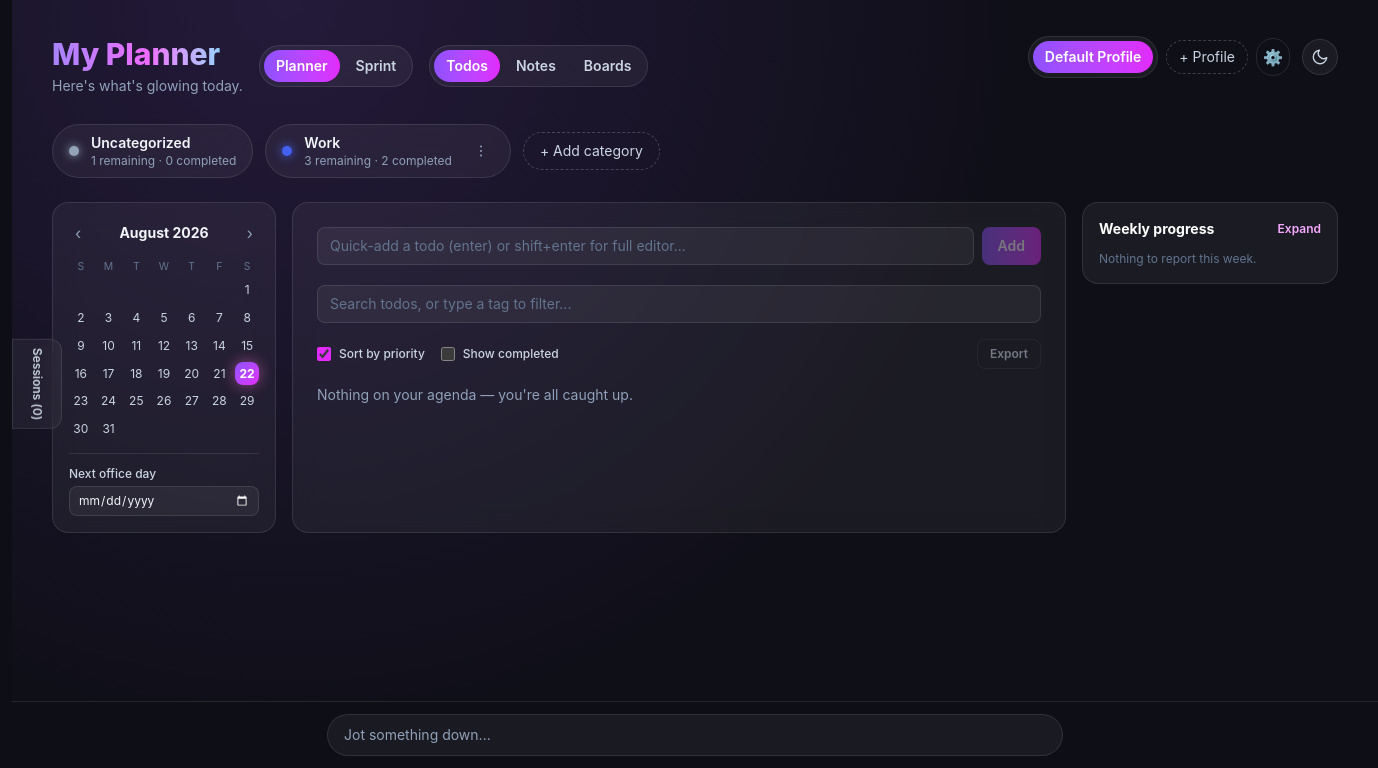
Scenario: App › Todos › quick-adds a todo and shows it in the agenda, refreshing category counts
The width and height of the screenshot is (1378, 768).
Expected: the text "Work" is shown, top-left (304, 134), bottom-right (340, 151)
Type "Buy milk" into the field named "New todo title" at (645, 246), box top-left (317, 227), bottom-right (974, 265)
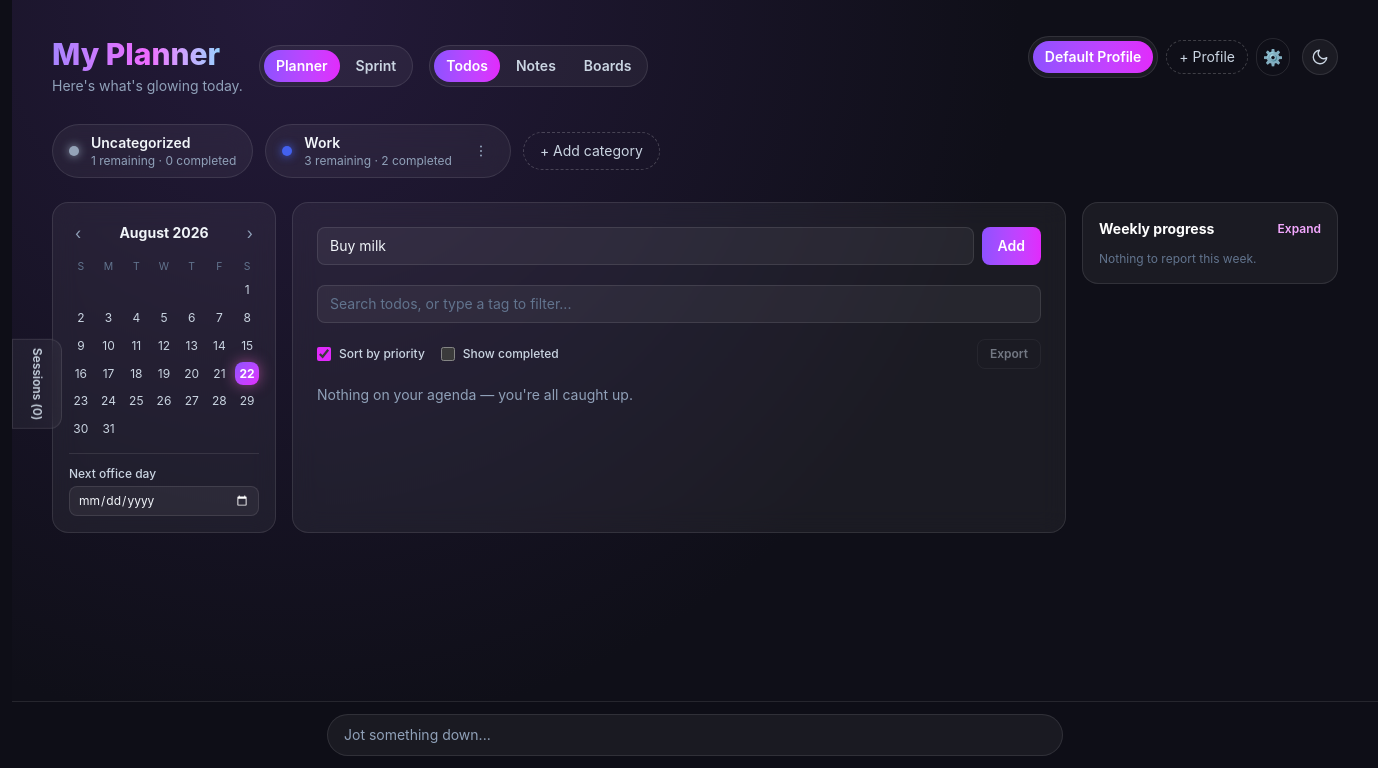
Click the button "Add" at (1011, 246), box top-left (982, 227), bottom-right (1041, 265)
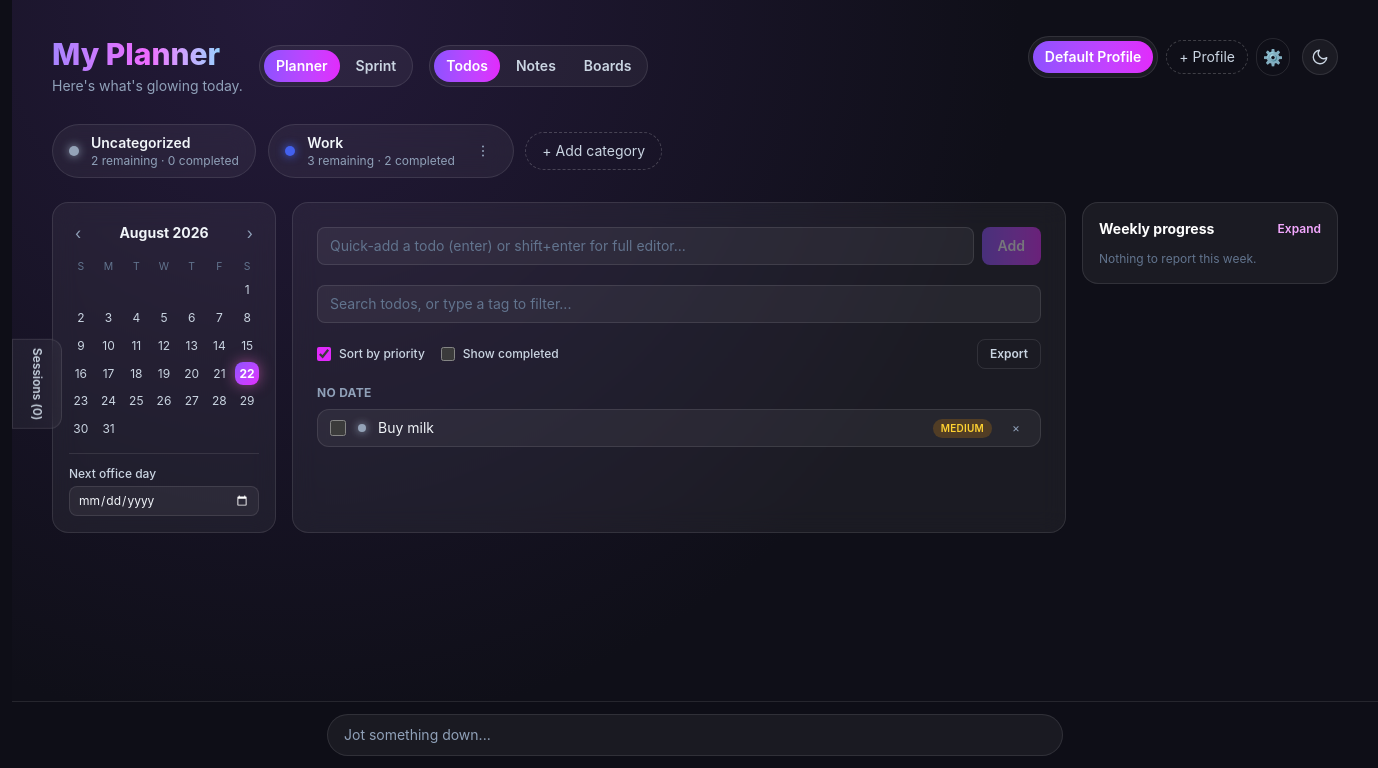
Now the text "Buy milk" is shown, box top-left (378, 419), bottom-right (434, 436)
Now the text "2 remaining · 0 completed" is shown, box top-left (91, 153), bottom-right (239, 169)
